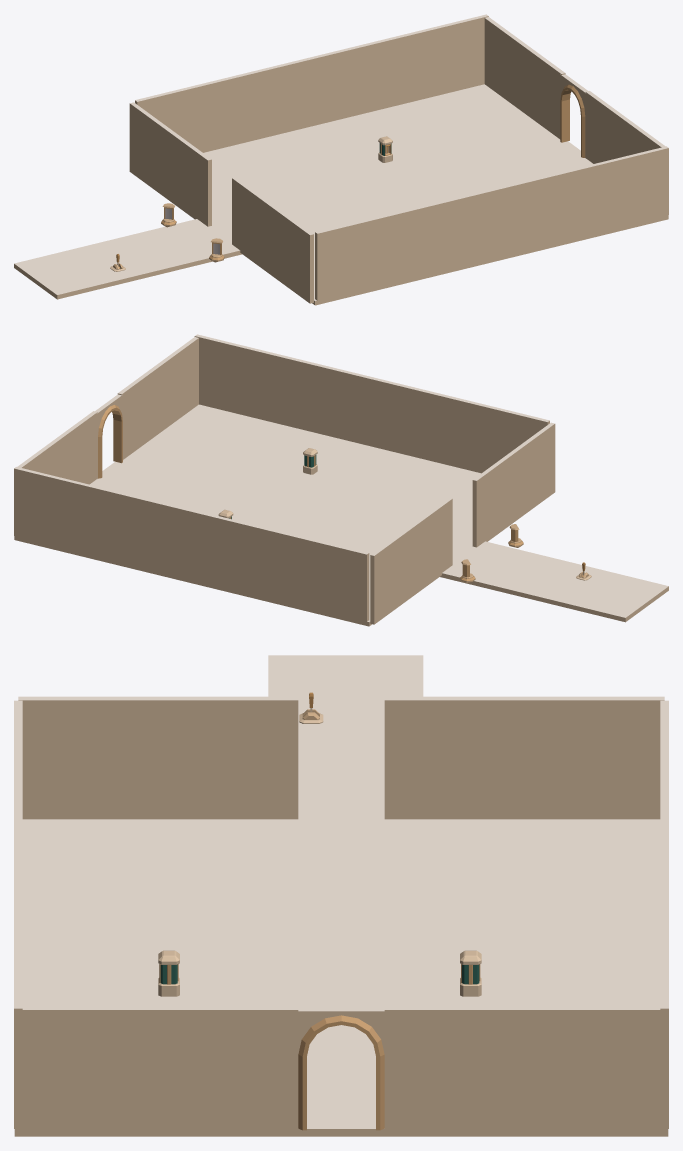
File: EntryRoom.glb
The picture shows the model from 3 angles, top to bottom: view 1: azimuth 30°, elevation 25°; view 2: azimuth 150°, elevation 25°; view 3: azimuth 270°, elevation 25°; orthographic projection. The views are drawn at different scales.
Visible parts, largest first — view 1: Wall_Straight_Middle (×6), Floor_Normal_Square (×2), Wall_Straight_Doorway_Large; view 2: Wall_Straight_Middle (×6), Floor_Normal_Square (×2), Wall_Straight_Doorway_Large; view 3: Wall_Straight_Middle (×6), Floor_Normal_Square (×2), Wall_Straight_Doorway_Large, Puzzle_Control_Rising_Switch (×2).
Boxes of the visible parts, x1,y1,x2,y2 form: Wall_Straight_Middle (×6): (129, 14, 668, 303); Floor_Normal_Square (×2): (14, 84, 668, 305); Wall_Straight_Doorway_Large: (560, 74, 587, 158); Wall_Straight_Middle (×6): (14, 334, 555, 624); Floor_Normal_Square (×2): (14, 404, 668, 626); Wall_Straight_Doorway_Large: (95, 394, 123, 478); Wall_Straight_Middle (×6): (14, 696, 668, 1132); Floor_Normal_Square (×2): (14, 655, 668, 1136); Wall_Straight_Doorway_Large: (298, 1008, 384, 1130); Puzzle_Control_Rising_Switch (×2): (158, 950, 481, 996).
Size of the model in its own units: 26.09 by 3.28 by 15.2.
